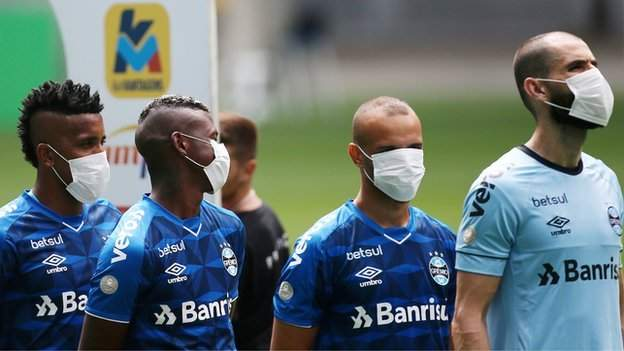with_mask: (560, 54, 610, 129), (60, 116, 103, 198), (377, 127, 424, 194), (189, 119, 226, 185)
